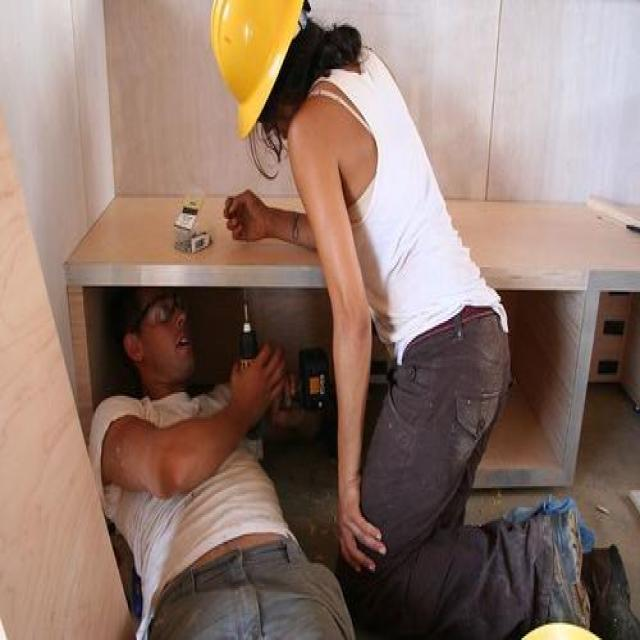safety_helmet: (203, 2, 311, 144)
